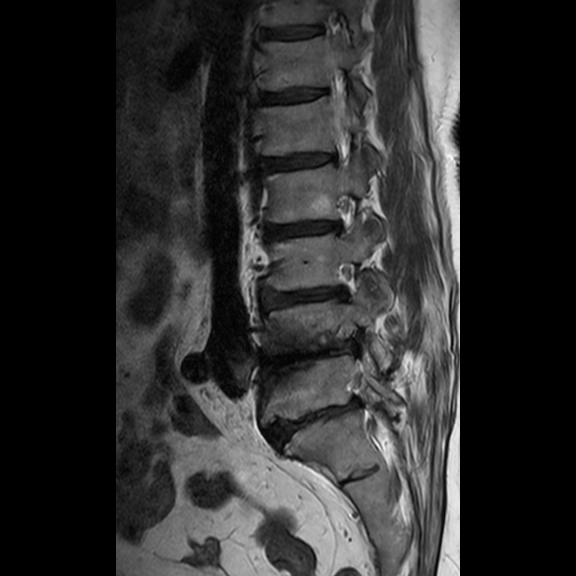RFS0: (324, 251, 366, 313), (326, 181, 362, 242)
